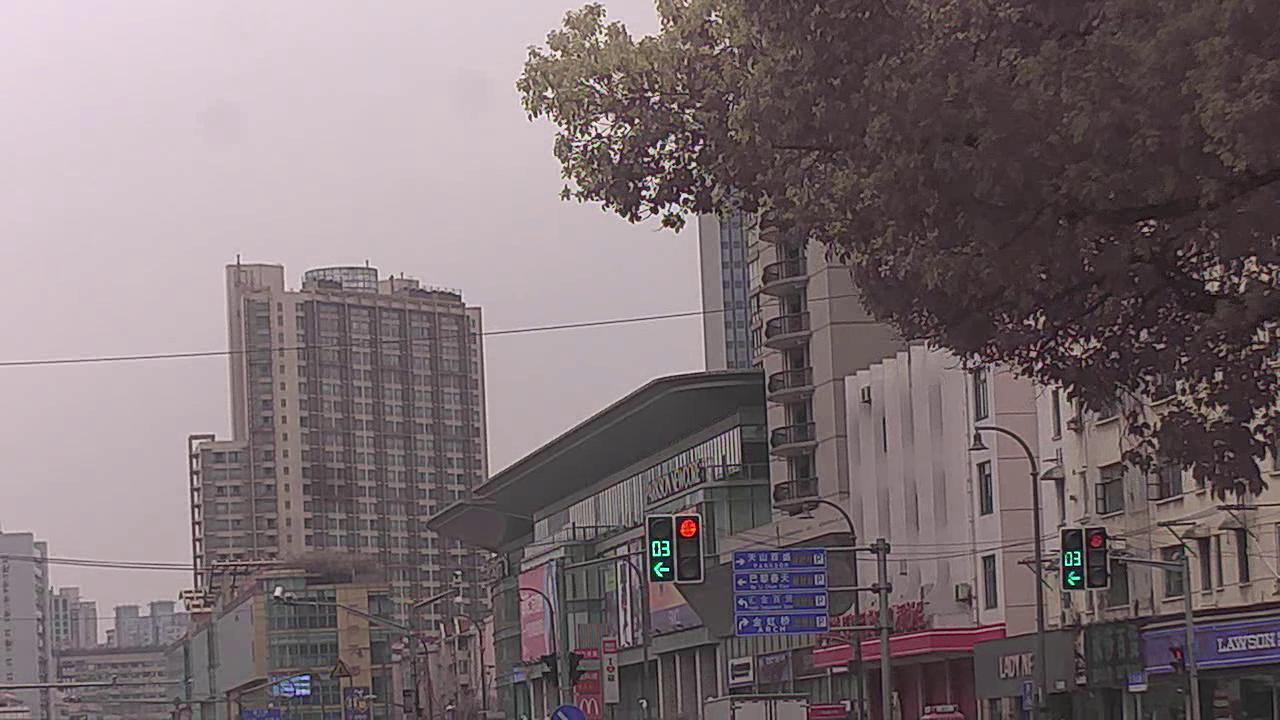traffic_light: (648, 513, 675, 581), (1086, 526, 1112, 591), (679, 513, 705, 577), (1059, 528, 1084, 589)
